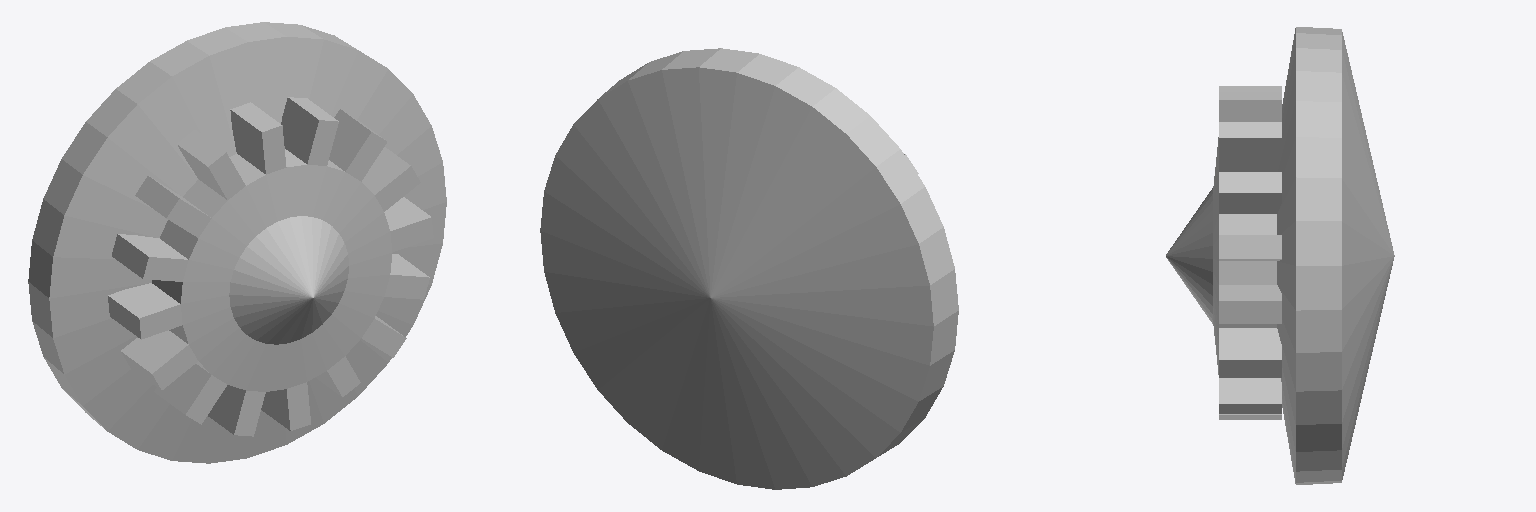
Rendered from UFO.obj.
The picture shows the model from 3 angles: view 1: azimuth 30°, elevation 25°; view 2: azimuth 150°, elevation 25°; view 3: azimuth 270°, elevation 25°; orthographic projection.
Visible parts, largest first — view 1: UFO; view 2: UFO; view 3: UFO.
Part boxes in pixels (x1,y1,x2,y2): UFO: (28, 22, 446, 463); UFO: (540, 48, 958, 489); UFO: (1166, 27, 1394, 484).
Size of the model in its own units: 3.1 by 3.1 by 1.55.